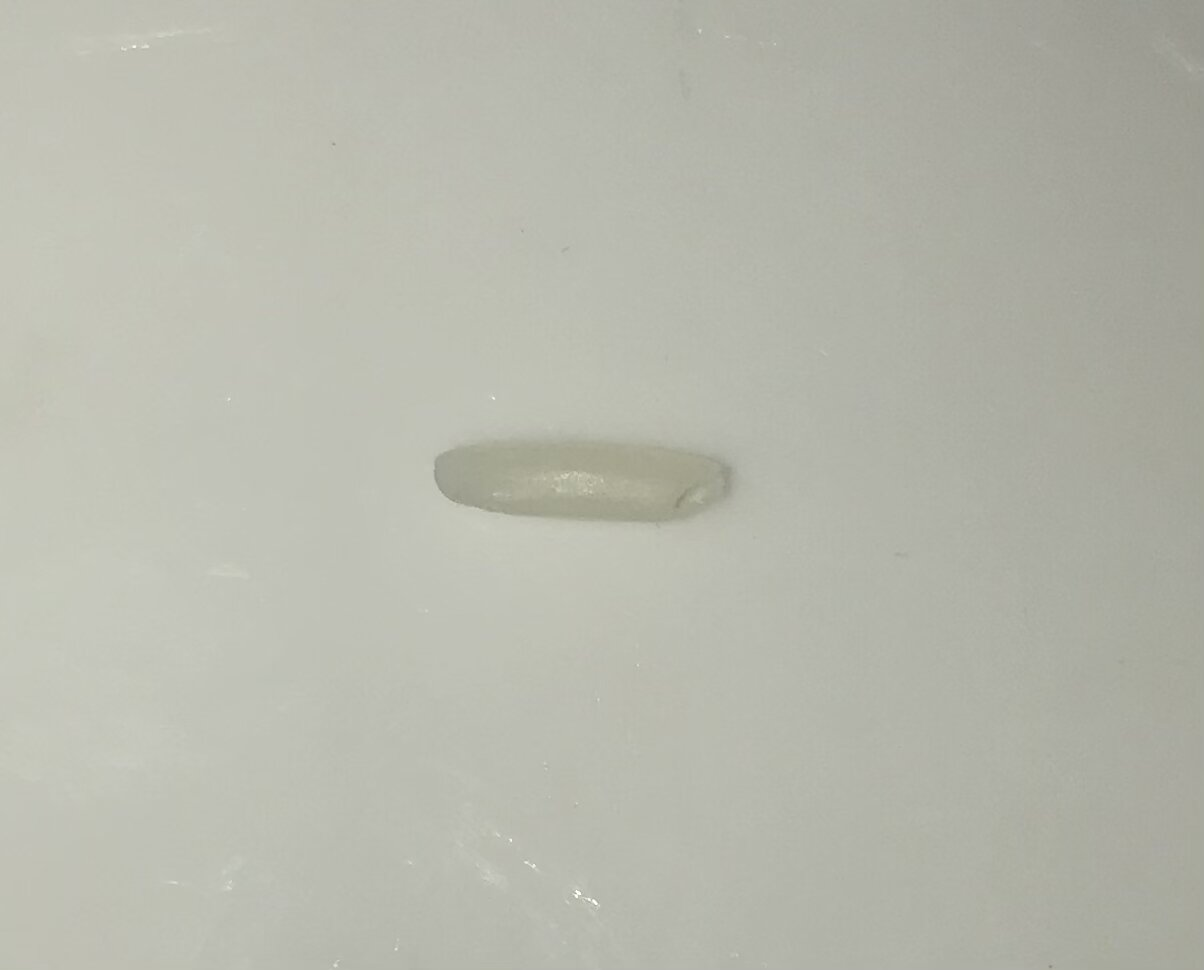Gao Lai Sua: (424, 421, 738, 531)
